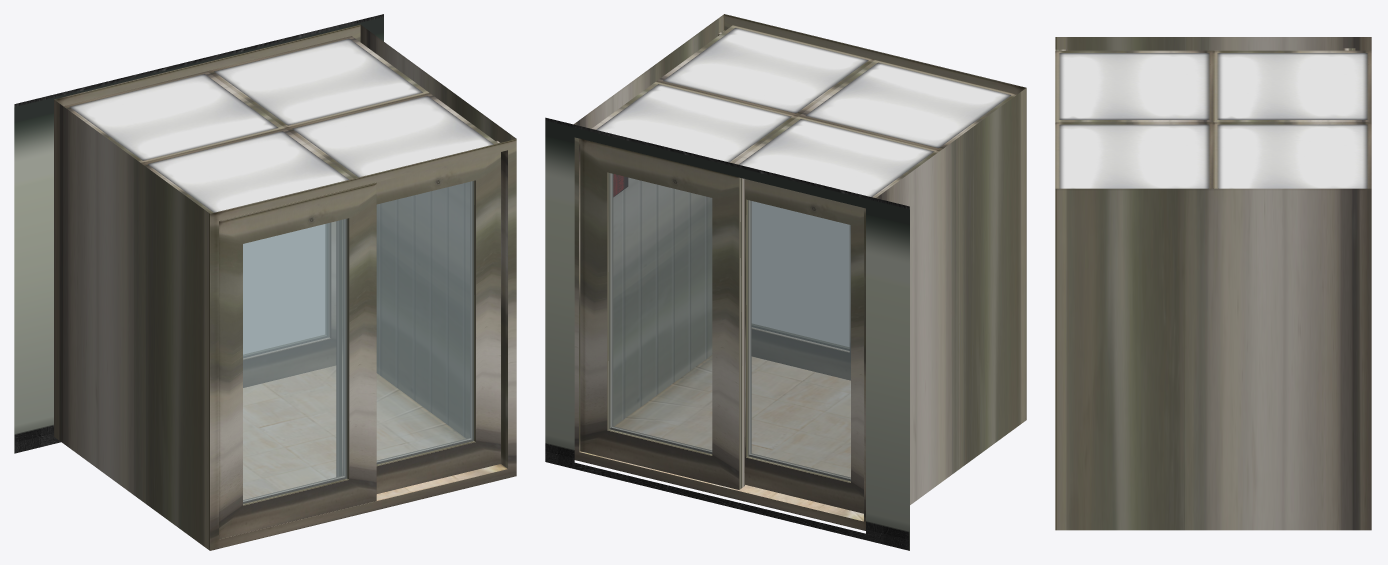
File: Ascensor.FBX
3 views of the same model, side by side, from view 1: azimuth 30°, elevation 25°; view 2: azimuth 150°, elevation 25°; view 3: azimuth 270°, elevation 25° (orthographic). The views are drawn at different scales.
Visible parts, largest first — view 1: Ascensor, Ascensor_puerta01, Ascensor_puerta02, MarcoparedAscensor, Ascensor_puerta003; view 2: Ascensor, Ascensor_puerta003, Ascensor_puerta004, MarcoparedAscensor, Ascensor_puerta02; view 3: Ascensor.
Boxes of the visible parts, bbox=[...] form: Ascensor: bbox=[54, 24, 516, 550]; Ascensor_puerta01: bbox=[219, 182, 376, 539]; Ascensor_puerta02: bbox=[336, 140, 500, 493]; MarcoparedAscensor: bbox=[14, 14, 383, 453]; Ascensor_puerta003: bbox=[243, 221, 335, 387]; Ascensor: bbox=[574, 14, 1026, 530]; Ascensor_puerta003: bbox=[580, 139, 744, 489]; Ascensor_puerta004: bbox=[745, 179, 863, 513]; MarcoparedAscensor: bbox=[545, 117, 909, 550]; Ascensor_puerta02: bbox=[718, 30, 850, 380]; Ascensor: bbox=[1055, 37, 1371, 530].
Size of the model in its own units: 138 by 125 by 102.
